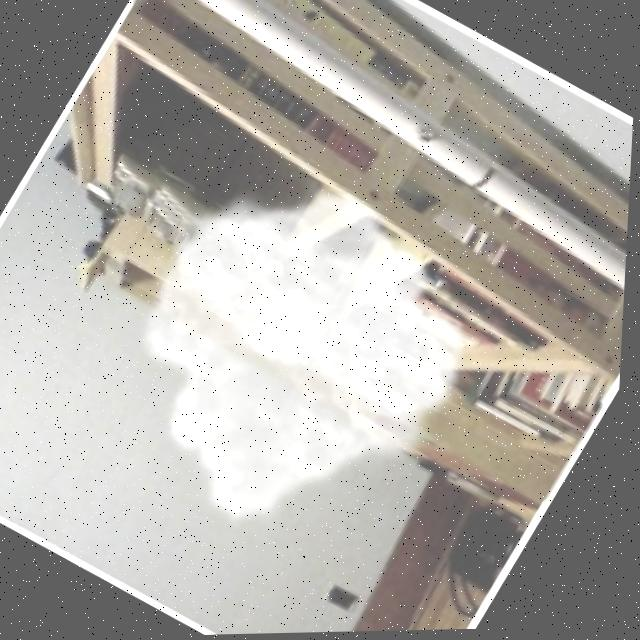Smoke: (58, 126, 533, 593)
